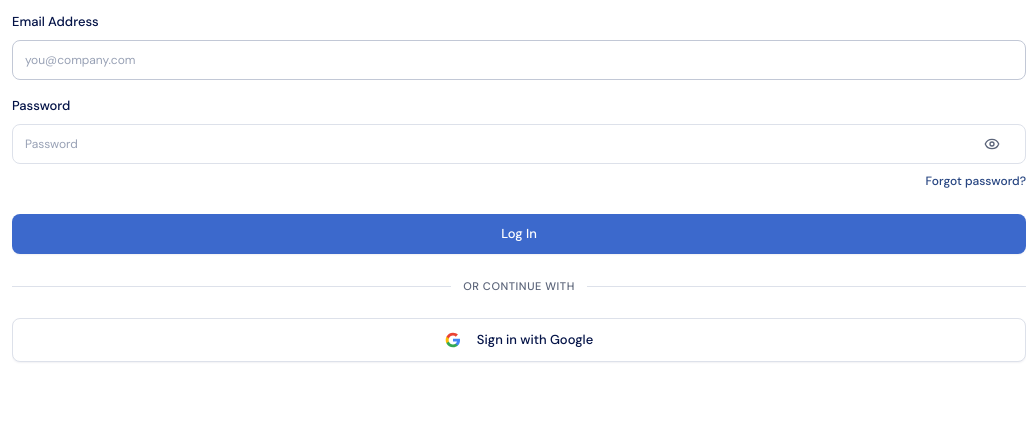
it: LoginForm component › 30-second timeout re-enables submit button and shows timeout message
Sync input events
Type "user@example.com" into the field labelled "Email Address" at (519, 60), box [12,40,1026,80]
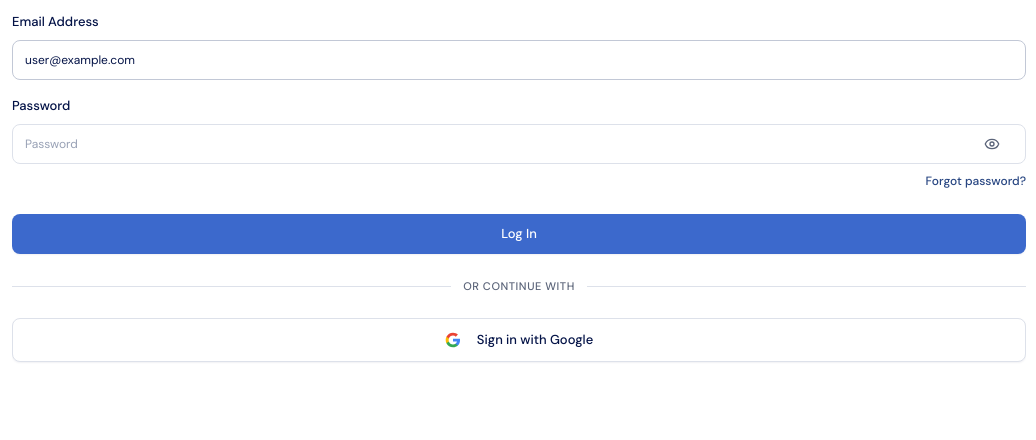
Type "password123" into the password field with placeholder "Password" at (519, 144), box [12,124,1026,164]
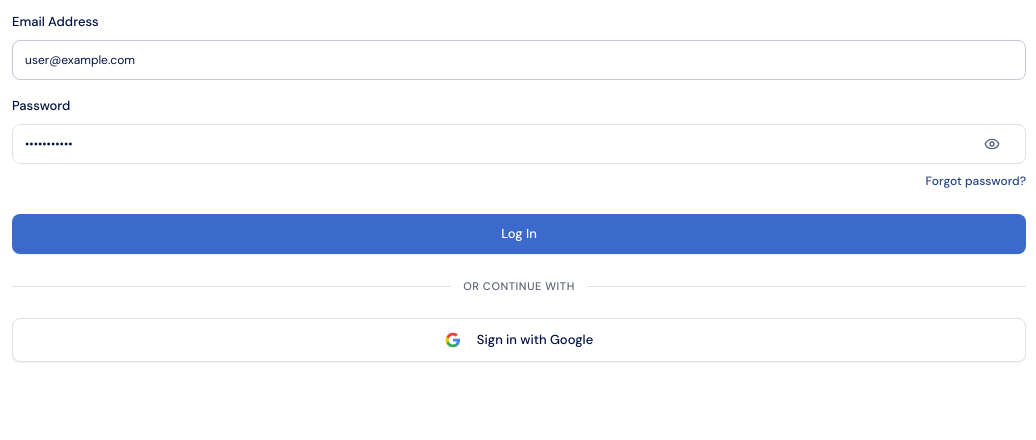
Submit the form "Log In"
Wait 31000 ms
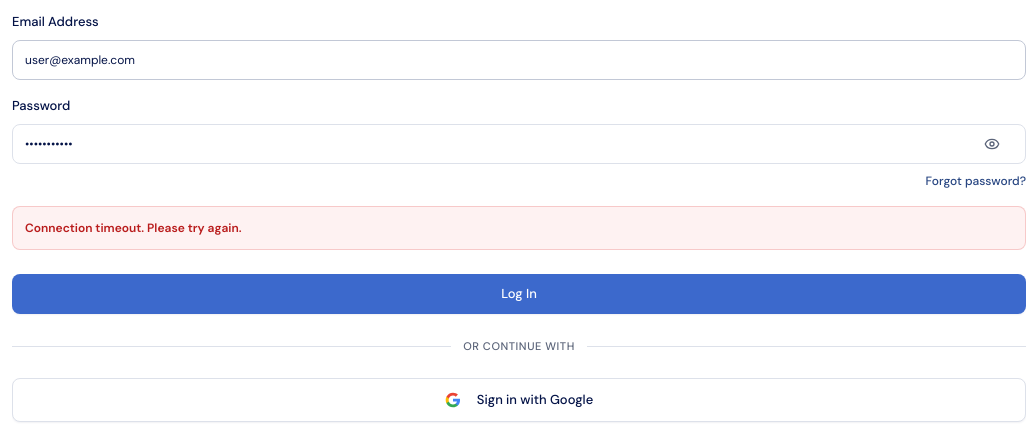
Expected: the button "Log In" is enabled, [12,274,1026,314]
Now the message shows "Connection timeout", box [25,220,242,236]
